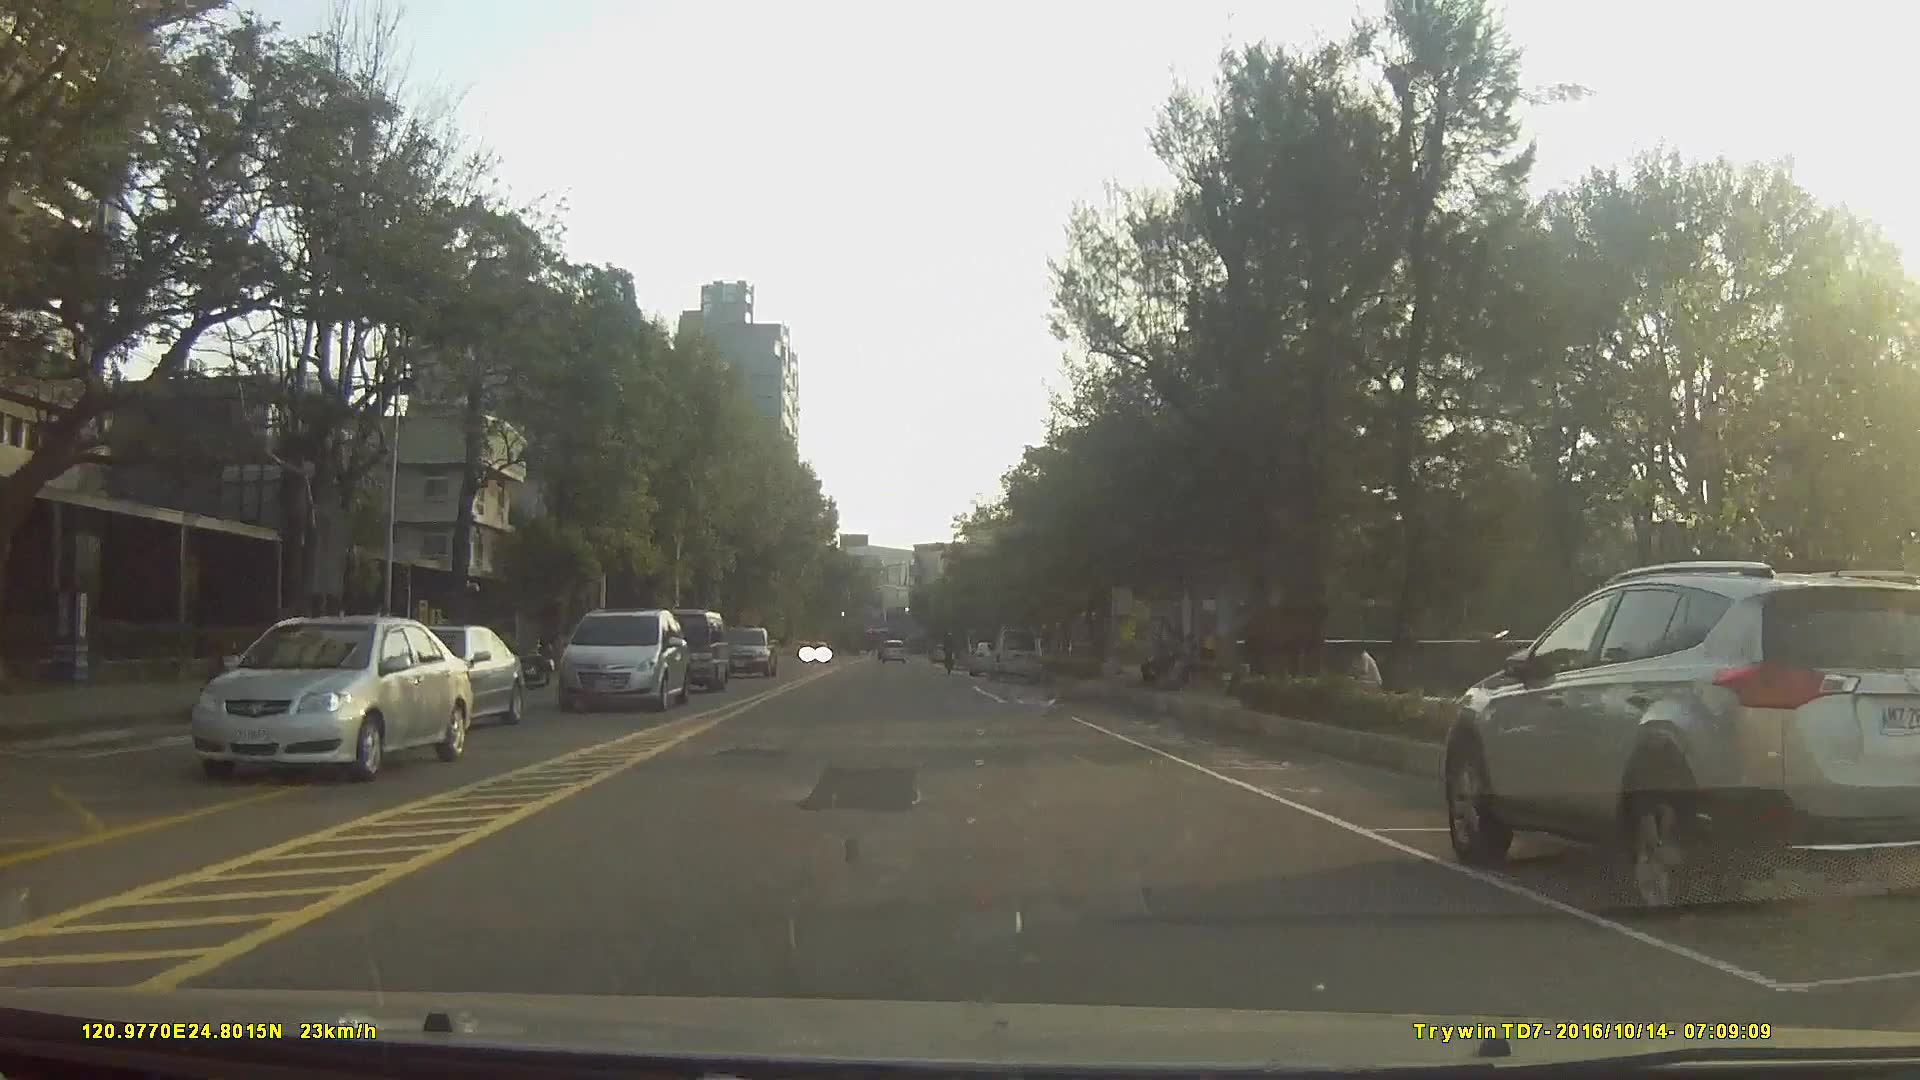rider: (940, 632, 960, 676)
vehicle: (1438, 558, 1920, 934), (184, 614, 473, 783), (380, 623, 525, 734), (552, 609, 689, 714), (638, 607, 727, 690), (982, 625, 1045, 681), (716, 625, 774, 677), (966, 639, 1002, 677), (875, 636, 905, 665)
